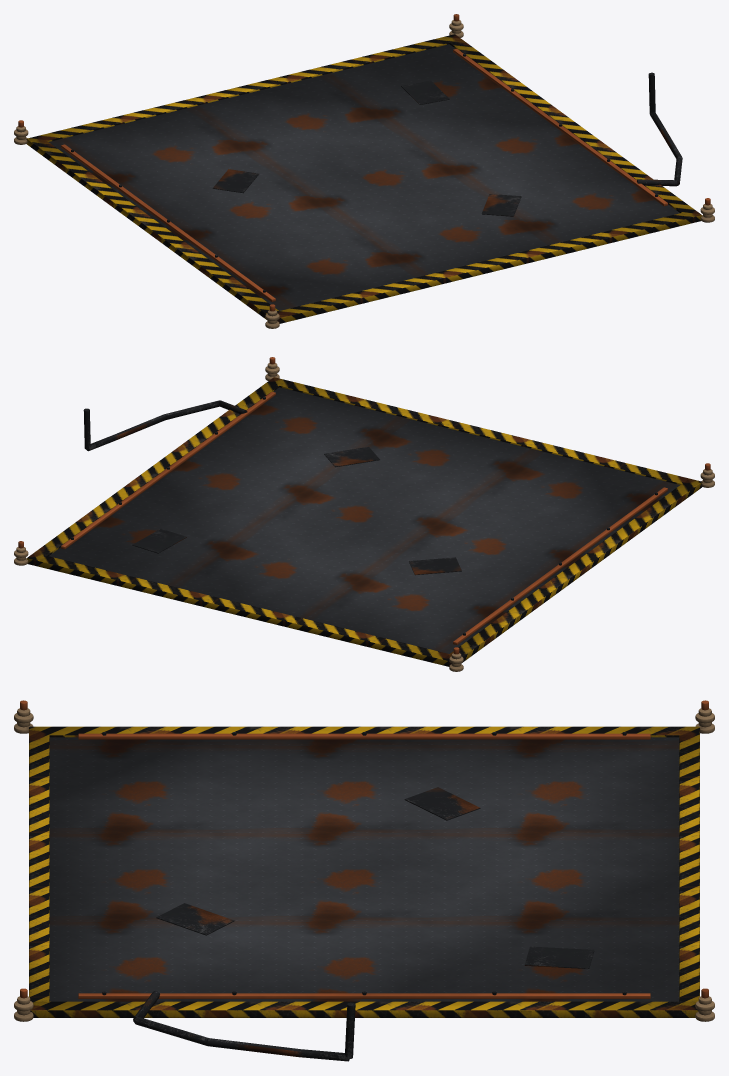
The model's file is plate.gltf.
The picture shows the model from 3 angles, top to bottom: view 1: azimuth 30°, elevation 25°; view 2: azimuth 150°, elevation 25°; view 3: azimuth 270°, elevation 25°; orthographic projection. The views are drawn at different scales.
Parts seen in each view (by area): view 1: plate; view 2: plate; view 3: plate.
Boxes of the visible parts, x1,y1,x2,y2 form: plate: (14, 14, 714, 328); plate: (14, 357, 714, 671); plate: (14, 700, 714, 1061).
Bounding box in the file's own units: 6.13 × 0.5014 × 5.39.
5 materials, 5 textured.
